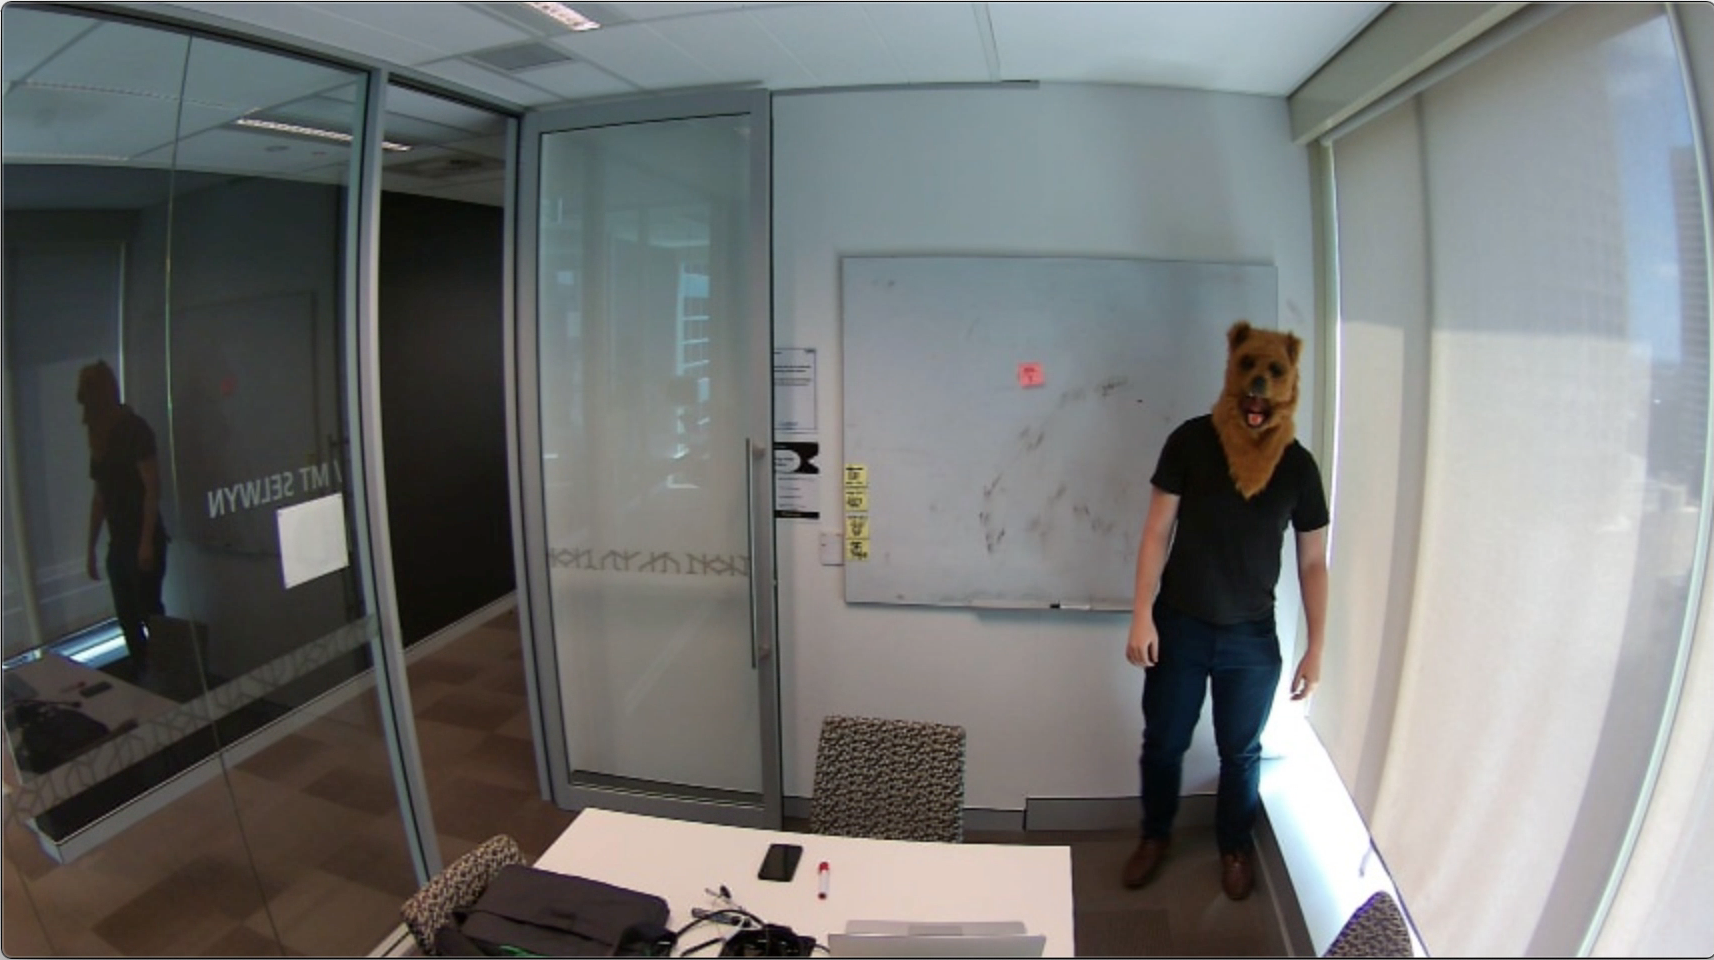Bear: (1221, 317, 1306, 441)
